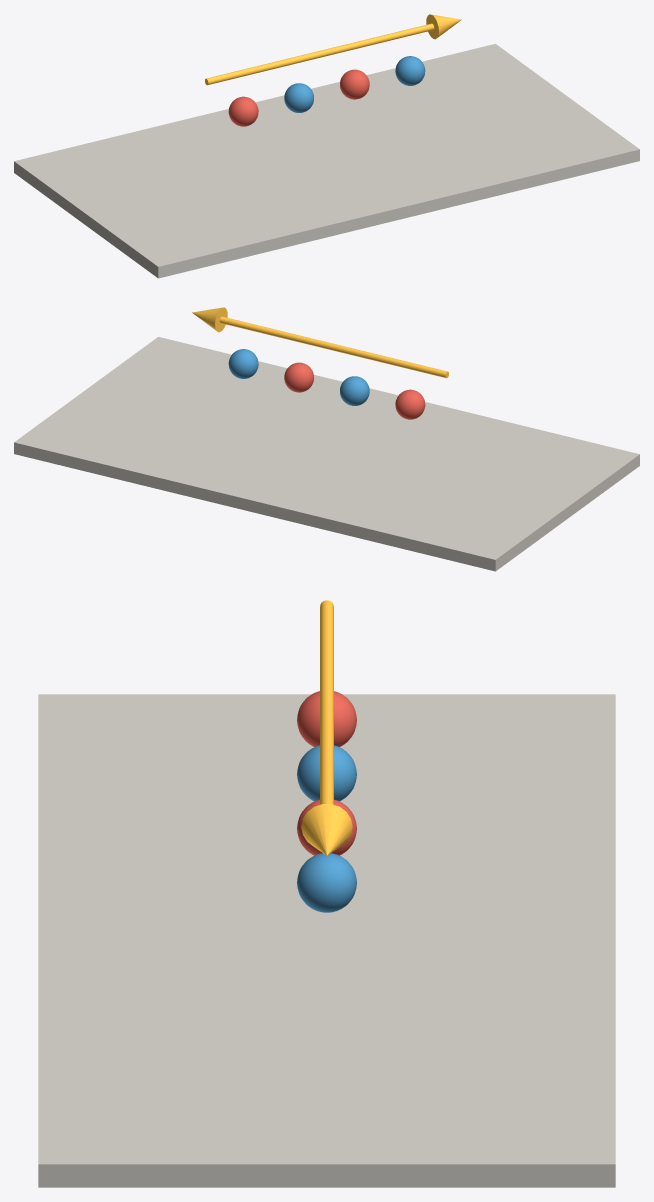
The model's file is physics-electricity-charge.glb.
The picture shows the model from 3 angles, top to bottom: view 1: azimuth 30°, elevation 25°; view 2: azimuth 150°, elevation 25°; view 3: azimuth 270°, elevation 25°; orthographic projection. The views are drawn at different scales.
Visible parts, largest first — view 1: circuit-base, charge-flow-arrow-shaft, charge-carrier-3, charge-carrier-1, charge-carrier-2, charge-carrier-4, charge-flow-arrow-head; view 2: circuit-base, charge-flow-arrow-shaft, charge-carrier-3, charge-carrier-1, charge-carrier-2, charge-carrier-4, charge-flow-arrow-head; view 3: circuit-base, charge-carrier-4, charge-flow-arrow-shaft, charge-carrier-1, charge-carrier-2, charge-flow-arrow-head, charge-carrier-3.
Part boxes in pixels (<box>): circuit-base: <box>14,44,639,278</box>; charge-flow-arrow-shaft: <box>205,23,434,85</box>; charge-carrier-3: <box>340,69,369,99</box>; charge-carrier-1: <box>228,96,258,126</box>; charge-carrier-2: <box>284,83,313,112</box>; charge-carrier-4: <box>395,56,425,85</box>; charge-flow-arrow-head: <box>426,14,461,39</box>; circuit-base: <box>14,337,639,571</box>; charge-flow-arrow-shaft: <box>219,316,448,378</box>; charge-carrier-3: <box>284,362,313,392</box>; charge-carrier-1: <box>395,389,425,419</box>; charge-carrier-2: <box>340,376,369,405</box>; charge-carrier-4: <box>228,349,258,378</box>; charge-flow-arrow-head: <box>192,307,227,332</box>; circuit-base: <box>38,694,615,1187</box>; charge-carrier-4: <box>297,853,356,912</box>; charge-flow-arrow-shaft: <box>320,600,333,804</box>; charge-carrier-1: <box>297,691,356,746</box>; charge-carrier-2: <box>297,745,356,801</box>; charge-flow-arrow-head: <box>301,804,352,855</box>; charge-carrier-3: <box>297,799,356,855</box>.
Size of what is drawn, in the model's own units: 2.6 by 0.6491 by 1.35.
